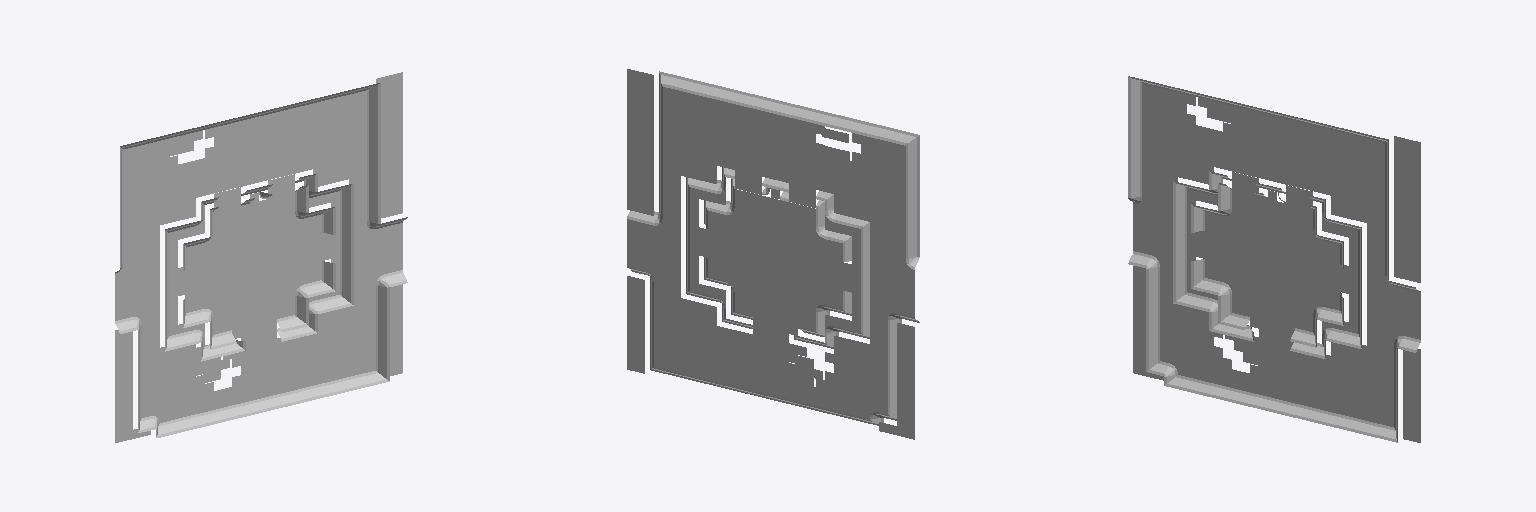
The model's file is Plat_full_13_10.obj.
3 renders of one model, left to right at view 1: azimuth 30°, elevation 25°; view 2: azimuth 150°, elevation 25°; view 3: azimuth 330°, elevation 25°, orthographic.
Parts seen in each view (by area): view 1: map; view 2: map; view 3: map.
Part boxes in pixels (x1,y1,x2,y2): map: (115,72,407,442); map: (627,69,919,439); map: (1128,76,1420,442).
Size of the model in its own units: 32 by 32 by 3.